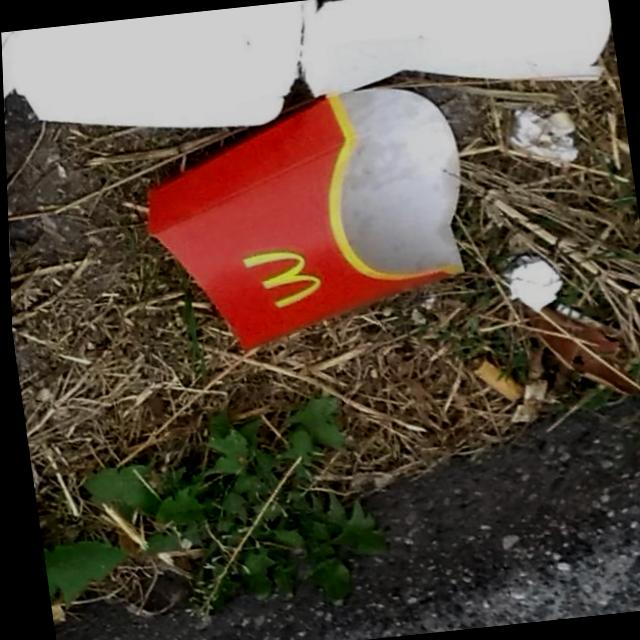Paper: (125, 74, 485, 361)
